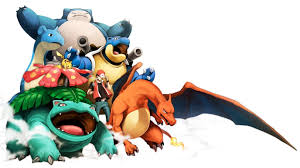charizard: (107, 68, 298, 159)
